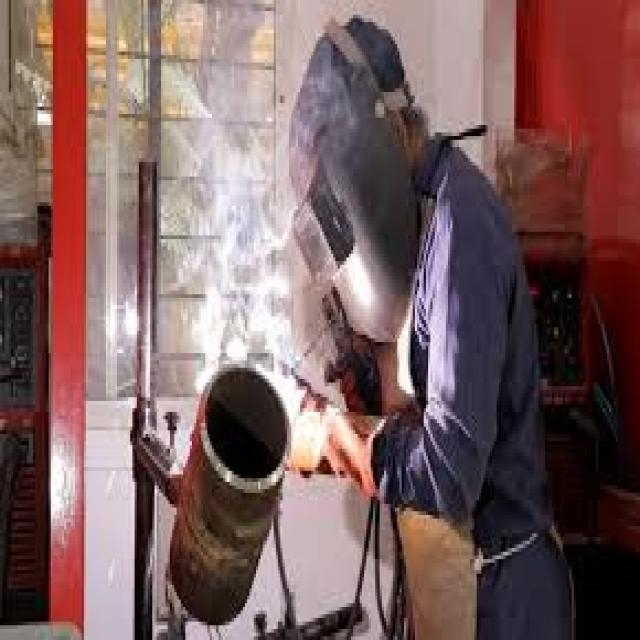with_helmet: (282, 0, 490, 335)
